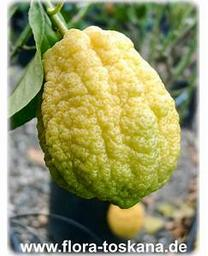lemon: (36, 26, 182, 209)
